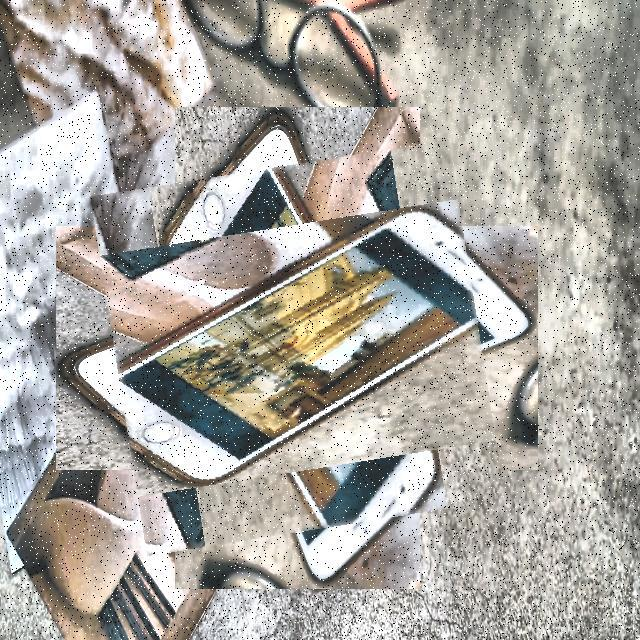Phone: (103, 153, 492, 543)
